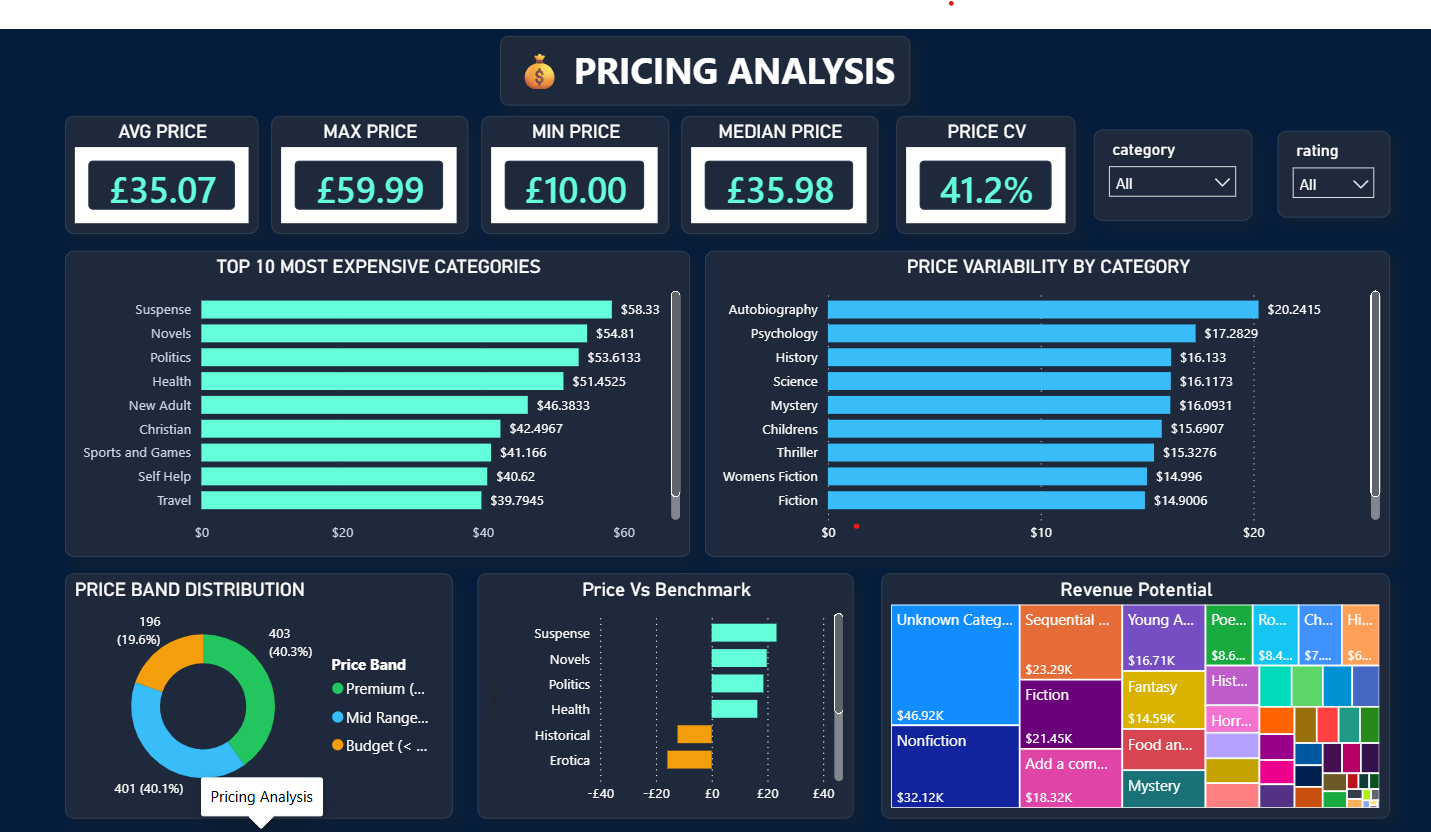

Layout of this report page (visuals, bound fields, positions):
{"tool":"powerbi","page":{"name":"Pricing Analysis","canvas":[1280,720],"ordinal":1},"visuals":[{"type":"textbox","box":[446.7,7.6,366.5,62.4],"z":0},{"type":"cardVisual","title":"AVG PRICE","fields":{"Data":["_Measures.Avg Price"]},"box":[58.5,78.9,173.1,105.6],"z":1000},{"type":"cardVisual","title":"MAX PRICE","fields":{"Data":["_Measures.Max Price"]},"box":[241.8,78.9,175.6,105.6],"z":2000},{"type":"cardVisual","title":"MIN PRICE","fields":{"Data":["_Measures.Min Price"]},"box":[430.1,78.9,168,105.6],"z":3000},{"type":"cardVisual","title":"MEDIAN PRICE","fields":{"Data":["_Measures.Median Price"]},"box":[608.3,78.9,175.6,105.6],"z":4000},{"type":"cardVisual","title":"PRICE CV ","fields":{"Data":["_Measures.Price CV"]},"box":[800.5,78.9,160.4,105.6],"z":5000},{"type":"clusteredBarChart","title":"TOP 10 MOST EXPENSIVE CATEGORIES","fields":{"Category":["public books_catalog.category"],"Y":["_Measures.Category Avg Price"]},"box":[58.5,199.8,558.7,273.6],"z":6000},{"type":"donutChart","title":"PRICE BAND DISTRIBUTION","fields":{"Category":["public price_history.Price Band"],"Y":["_Measures.Products Monitored"]},"box":[58.5,487.4,346.2,218.9],"z":7000},{"type":"clusteredBarChart","title":"PRICE VARIABILITY BY CATEGORY","fields":{"Category":["public books_catalog.category"],"Y":["_Measures.Price Std Dev"]},"box":[629.9,199.8,612.1,273.6],"z":8000},{"type":"clusteredBarChart","title":"Price Vs Benchmark ","fields":{"Category":["public books_catalog.category"],"Y":["_Measures.Price Vs Benchmark"]},"box":[426.3,487.4,336,218.9],"z":9000},{"type":"slicer","fields":{"Values":["public books_catalog.category"]},"box":[977.4,91.6,141.3,81.4],"z":10000},{"type":"treemap","title":"Revenue Potential ","fields":{"Values":["_Measures.Revenue Potential"],"Group":["public books_catalog.category"]},"box":[787.8,487.4,454.3,218.9],"z":11000},{"type":"slicer","fields":{"Values":["public price_history.rating"]},"box":[1141.5,92.9,100.5,77.6],"z":12000}]}

Visuals, with their boxes on the page's 1280x720 design canvas (x1, y1, x2, y2). These are canvas units, not pixel positions in the 1431x832 screenshot, which may show the page scaled, cropped or inside an application window:
textbox: (447,8,813,70)
"AVG PRICE" cardVisual: (58,79,232,184)
"MAX PRICE" cardVisual: (242,79,417,184)
"MIN PRICE" cardVisual: (430,79,598,184)
"MEDIAN PRICE" cardVisual: (608,79,784,184)
"PRICE CV " cardVisual: (800,79,961,184)
"TOP 10 MOST EXPENSIVE CATEGORIES" clusteredBarChart: (58,200,617,473)
"PRICE BAND DISTRIBUTION" donutChart: (58,487,405,706)
"PRICE VARIABILITY BY CATEGORY" clusteredBarChart: (630,200,1242,473)
"Price Vs Benchmark " clusteredBarChart: (426,487,762,706)
slicer - public books_catalog.category: (977,92,1119,173)
"Revenue Potential " treemap: (788,487,1242,706)
slicer - public price_history.rating: (1142,93,1242,170)
